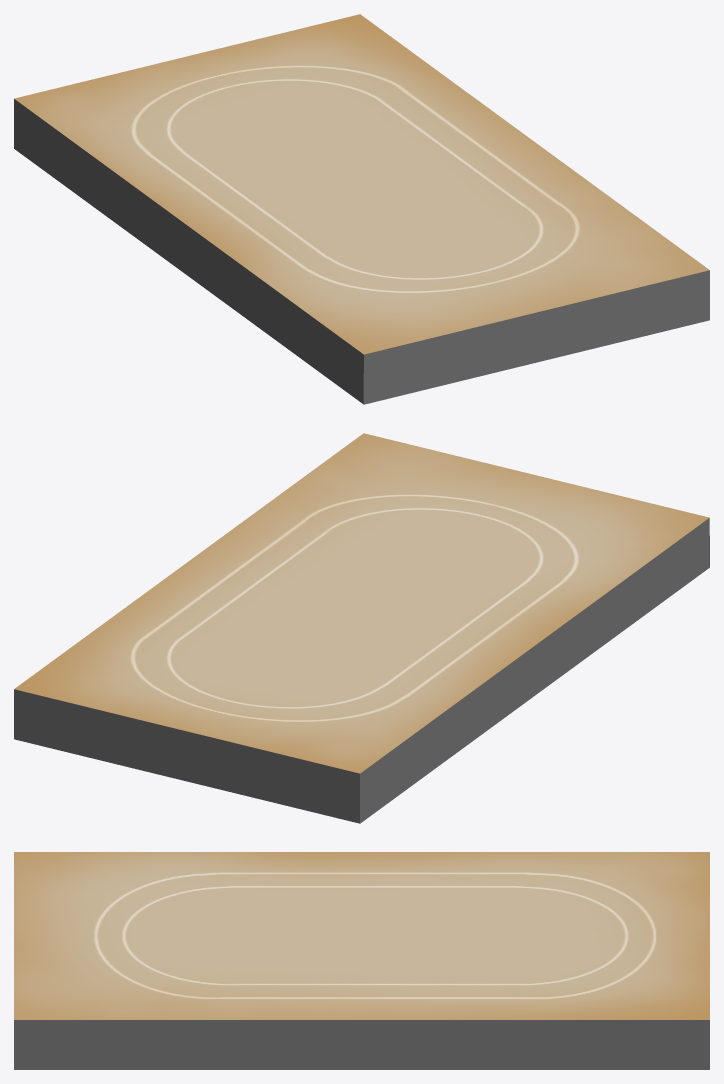
File: ground04.dae
3 views of the same model, one above another, from view 1: azimuth 30°, elevation 25°; view 2: azimuth 150°, elevation 25°; view 3: azimuth 270°, elevation 25° (orthographic).
Visible parts, largest first — view 1: ground04; view 2: ground04; view 3: ground04.
Part boxes in pixels (x1,y1,x2,y2): ground04: (14,14,709,404); ground04: (14,433,709,823); ground04: (14,852,709,1069).
Bounding box in the file's own units: 15.01 × 2.08 × 26.25.
